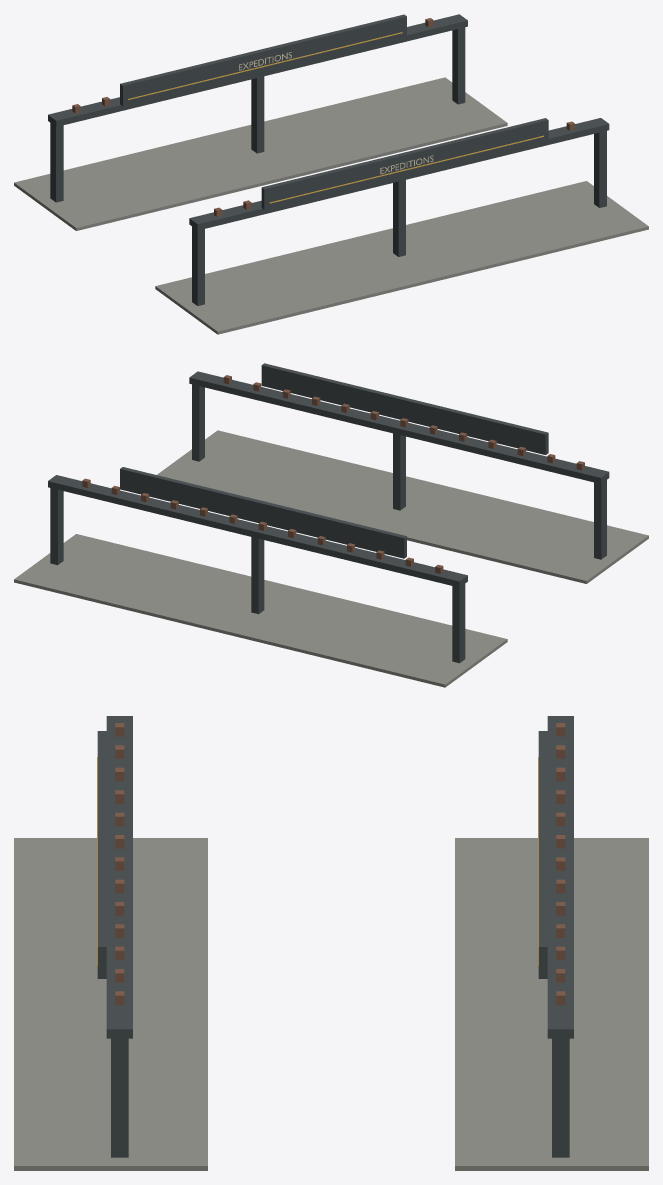
The model's file is Refuge_03_Terminal.fbx.
The picture shows the model from 3 angles, top to bottom: view 1: azimuth 30°, elevation 25°; view 2: azimuth 150°, elevation 25°; view 3: azimuth 270°, elevation 25°; orthographic projection. The views are drawn at different scales.
Parts seen in each view (by area): view 1: Refuge_03_Terminal_concrete, Refuge_03_Terminal_iron, Refuge_03_Terminal_yellow; view 2: Refuge_03_Terminal_concrete, Refuge_03_Terminal_iron, Refuge_03_Terminal_rust; view 3: Refuge_03_Terminal_concrete, Refuge_03_Terminal_iron, Refuge_03_Terminal_rust.
Boxes of the visible parts, left/top/right/bottom form: Refuge_03_Terminal_concrete: left=14, top=77, right=648, bottom=334; Refuge_03_Terminal_iron: left=48, top=14, right=609, bottom=305; Refuge_03_Terminal_yellow: left=127, top=32, right=543, bottom=203; Refuge_03_Terminal_concrete: left=14, top=430, right=648, bottom=687; Refuge_03_Terminal_iron: left=48, top=363, right=609, bottom=663; Refuge_03_Terminal_rust: left=82, top=375, right=584, bottom=573; Refuge_03_Terminal_concrete: left=14, top=838, right=648, bottom=1170; Refuge_03_Terminal_iron: left=97, top=716, right=573, bottom=1157; Refuge_03_Terminal_rust: left=115, top=723, right=565, bottom=1004.
Bounding box in the file's own units: 88 × 21 × 72.
